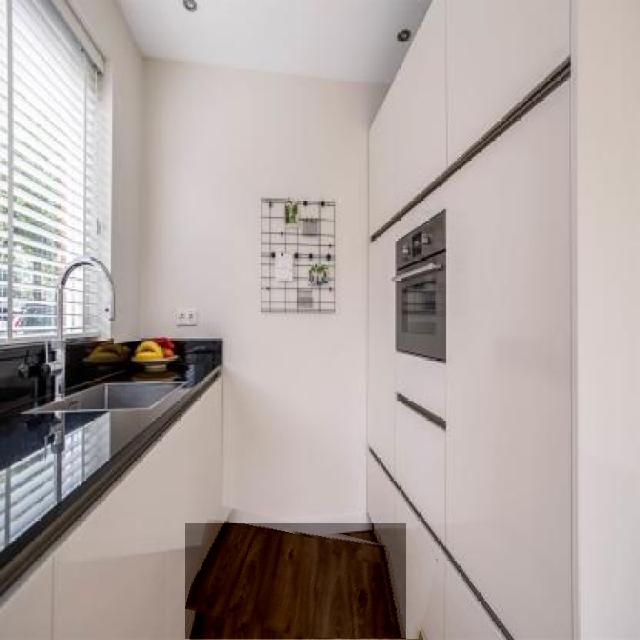floor: (185, 524, 406, 639)
